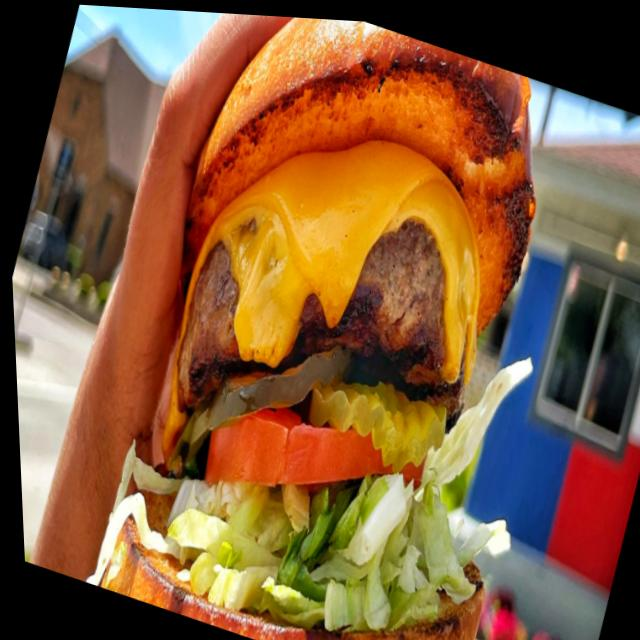burger: (54, 3, 639, 640)
